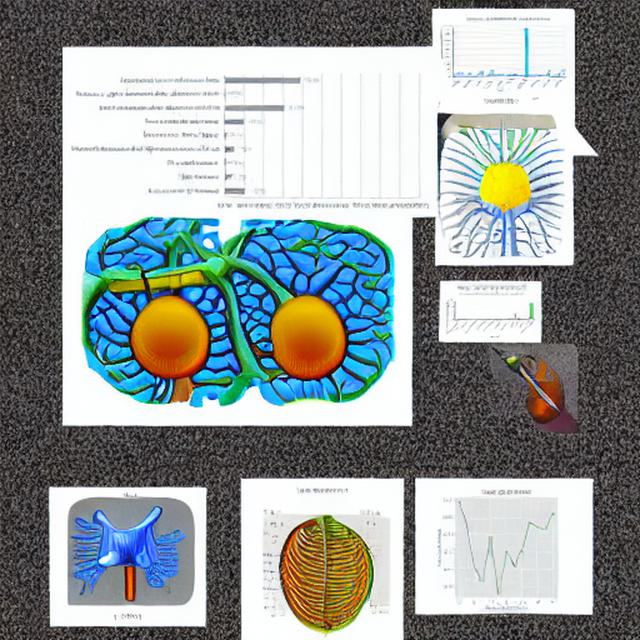Graph: (67, 56, 436, 215), (417, 481, 591, 612), (437, 14, 570, 97), (443, 285, 538, 340)
